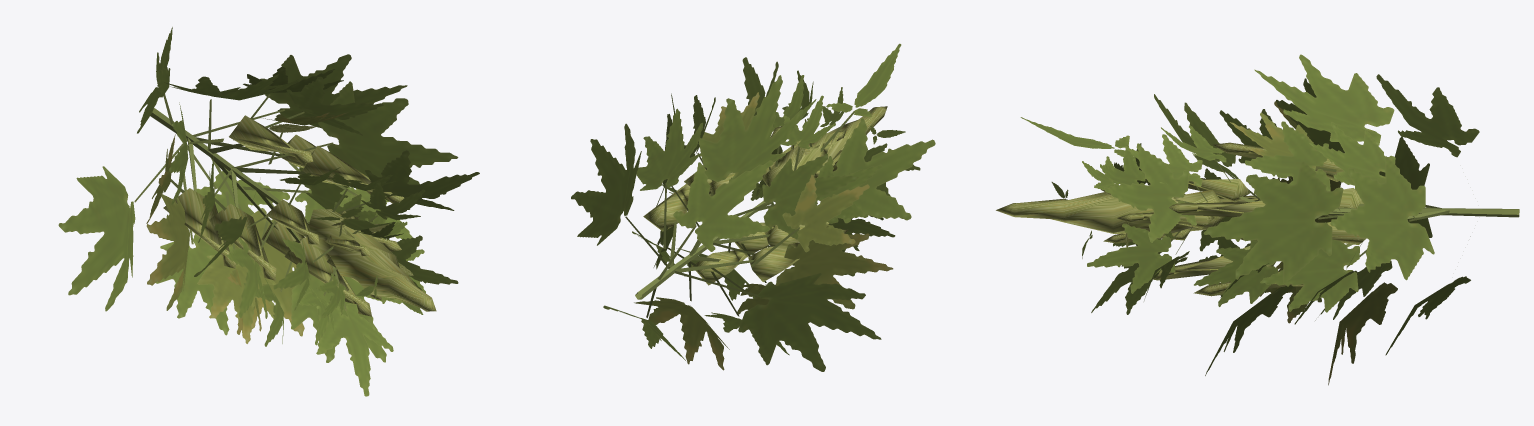
Rendered from p_tree_ripe_c1_cards.obj.
3 views of the same model, side by side, from view 1: azimuth 30°, elevation 25°; view 2: azimuth 150°, elevation 25°; view 3: azimuth 270°, elevation 25° (orthographic). The views are drawn at different scales.
Bounding box in the file's own units: 1.57 × 1.33 × 1.81.
Materials: 1 (1 with a texture image).
